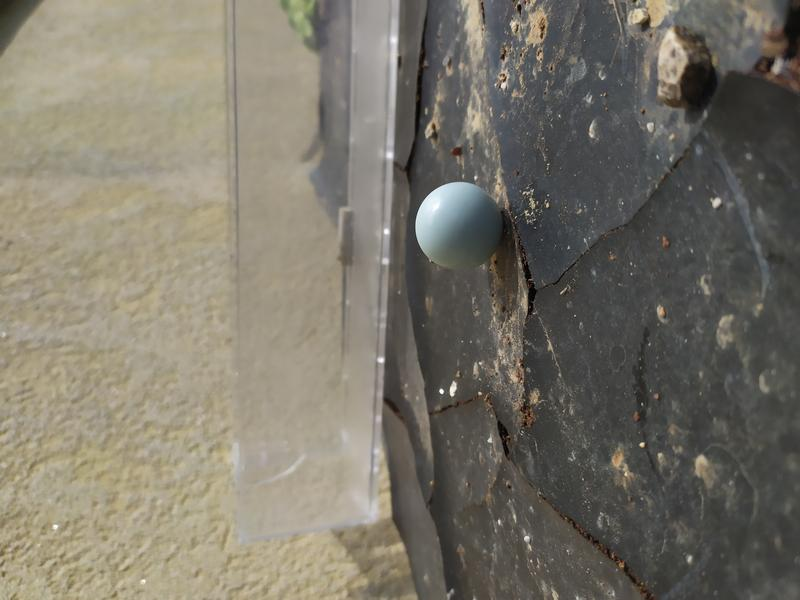Warning: (412, 179, 508, 273)
